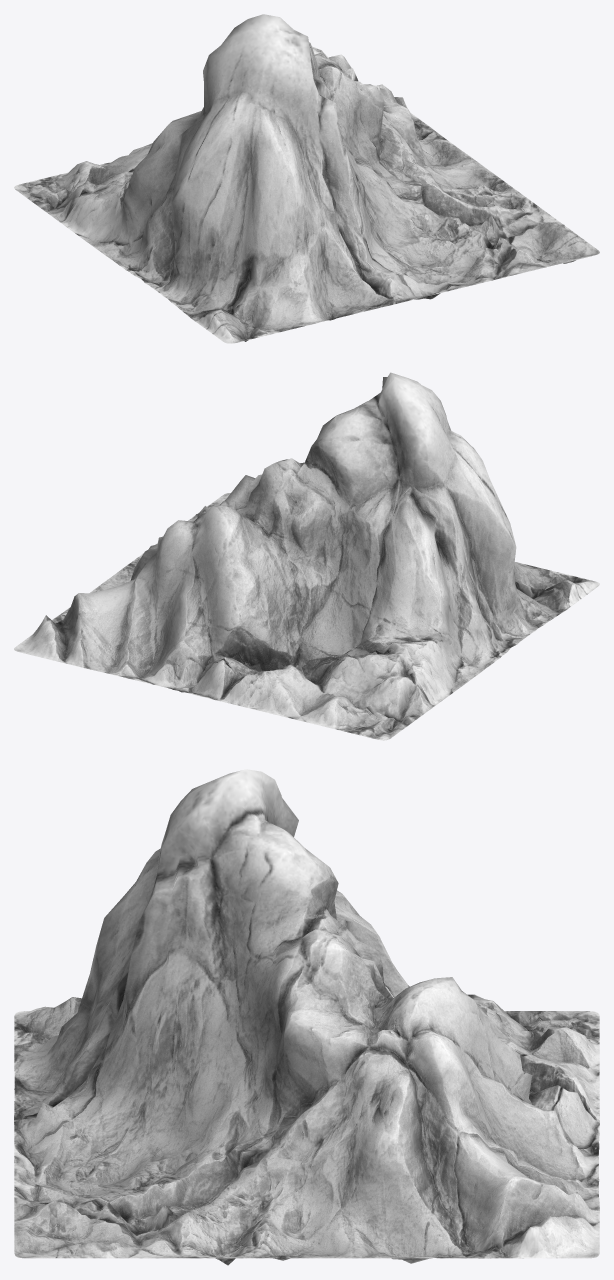
The model's file is BigRock-2.fbx.
3 views of the same model, one above another, from view 1: azimuth 30°, elevation 25°; view 2: azimuth 150°, elevation 25°; view 3: azimuth 270°, elevation 25° (orthographic). The views are drawn at different scales.
Parts seen in each view (by area): view 1: Plane.001; view 2: Plane.001; view 3: Plane.001.
Boxes of the visible parts, x1,y1,x2,y2 form: Plane.001: (14, 14, 599, 343); Plane.001: (14, 372, 599, 740); Plane.001: (14, 769, 599, 1265).
Size of the model in its own units: 1558 by 996 by 1558.
